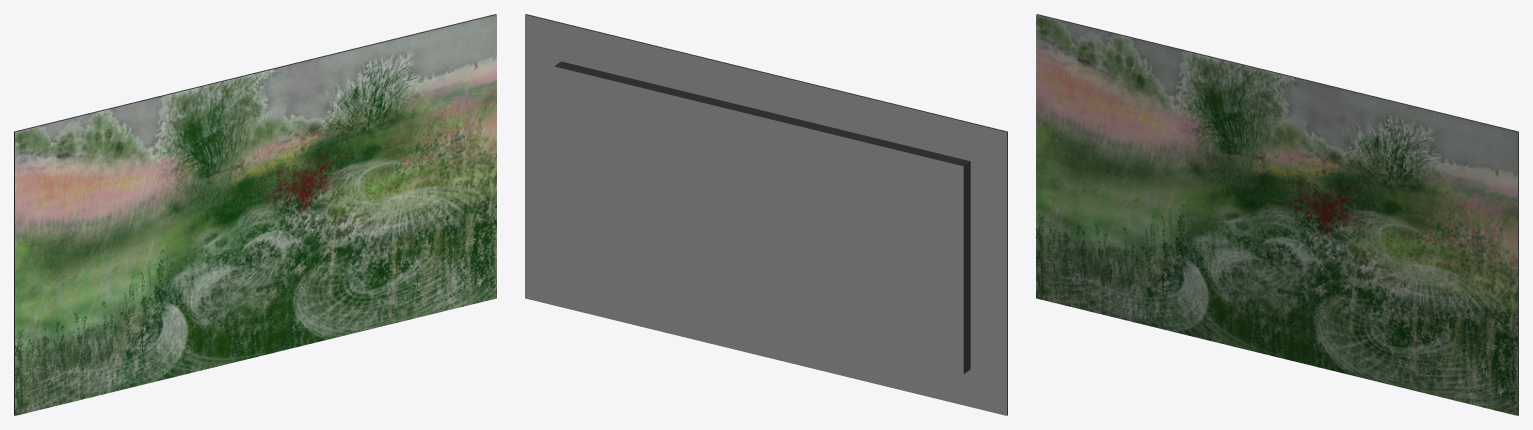
The model's file is hz078_moyen_dibond.glb.
The picture shows the model from 3 angles, left to right: view 1: azimuth 30°, elevation 25°; view 2: azimuth 150°, elevation 25°; view 3: azimuth 330°, elevation 25°; orthographic projection.
Parts seen in each view (by area): view 1: hz078_moyen_dibond; view 2: hz078_moyen_dibond; view 3: hz078_moyen_dibond.
Part boxes in pixels (x1=…): hz078_moyen_dibond: x1=14, y1=14, x2=496, y2=415; hz078_moyen_dibond: x1=525, y1=14, x2=1007, y2=415; hz078_moyen_dibond: x1=1036, y1=14, x2=1518, y2=415.
Size of the model in its own units: 0.8 by 0.45 by 0.023.
Materials: 4 (1 with a texture image).
